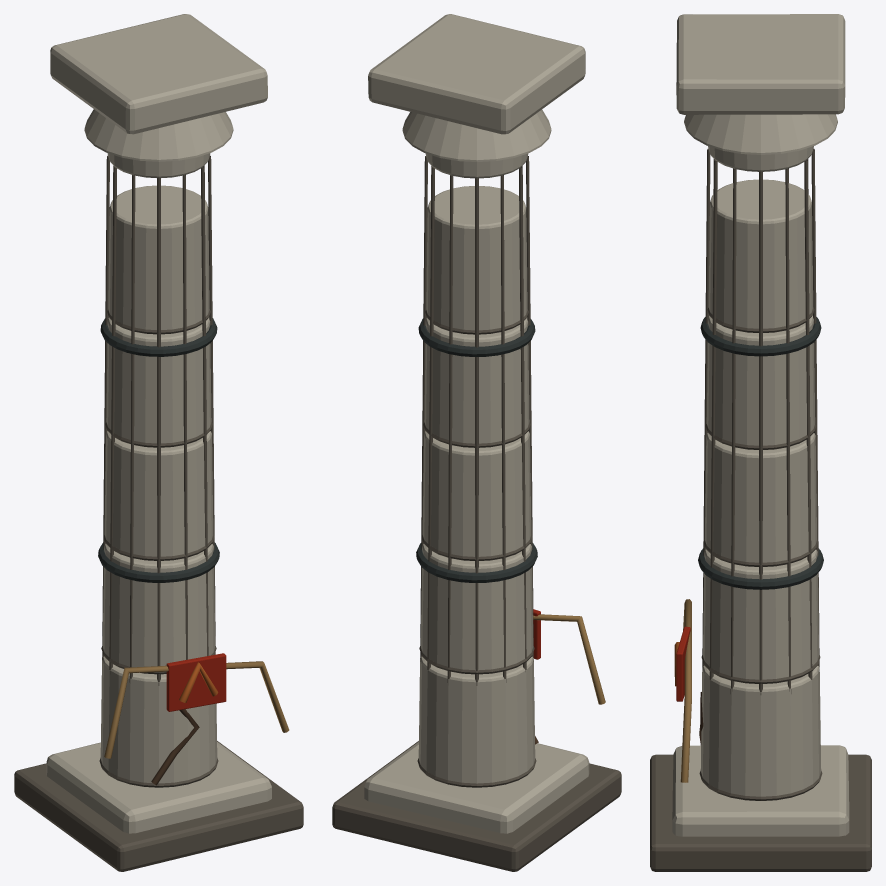
File: falling_column_intact.glb
3 views of the same model, side by side, from view 1: azimuth 30°, elevation 25°; view 2: azimuth 150°, elevation 25°; view 3: azimuth 270°, elevation 25° (orthographic). The views are drawn at different scales.
Parts seen in each view (by area): view 1: ColumnAbacus, ColumnIntactDrum.004, ColumnStaticStep, ColumnIntactDrum.002, ColumnStaticPlinth, ColumnIntactDrum.001, ColumnIntactDrum, ColumnIntactDrum.003, ColumnEchinus, ColumnWarningCloth, ColumnFluteShadow.008, ColumnFluteShadow.007 (+10 smaller); view 2: ColumnAbacus, ColumnIntactDrum, ColumnIntactDrum.004, ColumnStaticStep, ColumnIntactDrum.002, ColumnIntactDrum.001, ColumnStaticPlinth, ColumnIntactDrum.003, ColumnEchinus, ColumnFluteShadow.004, ColumnFluteShadow.003, ColumnFluteShadow.005 (+10 smaller); view 3: ColumnAbacus, ColumnIntactDrum, ColumnIntactDrum.004, ColumnStaticStep, ColumnIntactDrum.002, ColumnIntactDrum.001, ColumnStaticPlinth, ColumnIntactDrum.003, ColumnEchinus, ColumnFluteShadow, ColumnFluteShadow.001, ColumnFluteShadow.011 (+14 smaller).
Boxes of the visible parts, box(x1,y1,x2,y2) form: ColumnAbacus: box(50, 14, 267, 134); ColumnIntactDrum.004: box(108, 185, 209, 329); ColumnStaticStep: box(14, 741, 303, 871); ColumnIntactDrum.002: box(104, 431, 213, 556); ColumnStaticPlinth: box(46, 742, 271, 833); ColumnIntactDrum.001: box(102, 544, 215, 667); ColumnIntactDrum: box(100, 656, 217, 783); ColumnIntactDrum.003: box(106, 317, 211, 443); ColumnEchinus: box(84, 109, 233, 161); ColumnWarningCloth: box(166, 653, 226, 711); ColumnFluteShadow.008: box(157, 178, 160, 685); ColumnFluteShadow.007: box(129, 174, 135, 682); ColumnAbacus: box(368, 14, 585, 134); ColumnIntactDrum: box(418, 656, 535, 783); ColumnIntactDrum.004: box(426, 186, 527, 330); ColumnStaticStep: box(332, 741, 621, 871); ColumnIntactDrum.002: box(422, 431, 531, 556); ColumnIntactDrum.001: box(420, 544, 533, 670); ColumnStaticPlinth: box(364, 742, 589, 833); ColumnIntactDrum.003: box(424, 317, 529, 443); ColumnEchinus: box(402, 109, 551, 161); ColumnFluteShadow.004: box(475, 178, 478, 685); ColumnFluteShadow.003: box(447, 174, 453, 682); ColumnFluteShadow.005: box(500, 174, 506, 682); ColumnAbacus: box(676, 14, 845, 114); ColumnIntactDrum: box(700, 665, 821, 796); ColumnIntactDrum.004: box(708, 179, 813, 328); ColumnStaticStep: box(650, 754, 871, 871); ColumnIntactDrum.002: box(705, 433, 816, 562); ColumnIntactDrum.001: box(703, 549, 818, 679); ColumnStaticPlinth: box(672, 745, 849, 836); ColumnIntactDrum.003: box(706, 315, 815, 445); ColumnEchinus: box(684, 114, 837, 154); ColumnFluteShadow: box(759, 171, 762, 694); ColumnFluteShadow.001: box(785, 168, 791, 693); ColumnFluteShadow.011: box(730, 168, 736, 693).
Size of the model in its own units: 1.16 by 4.51 by 1.16.
